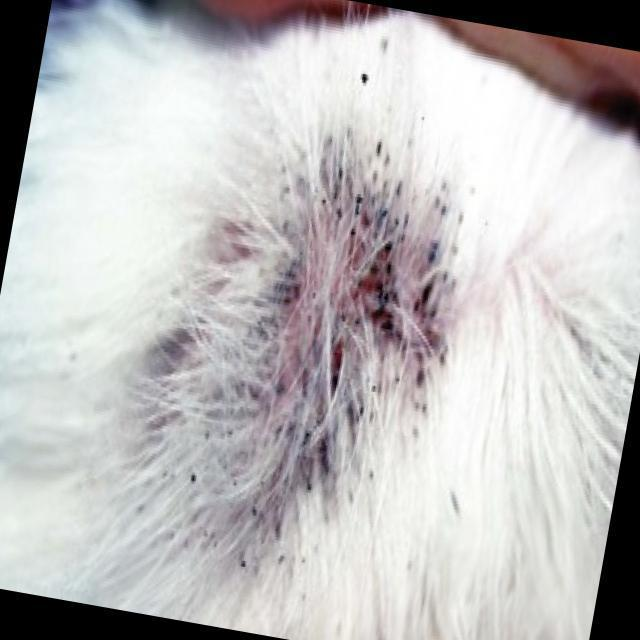fungal infection: (131, 112, 476, 589)
